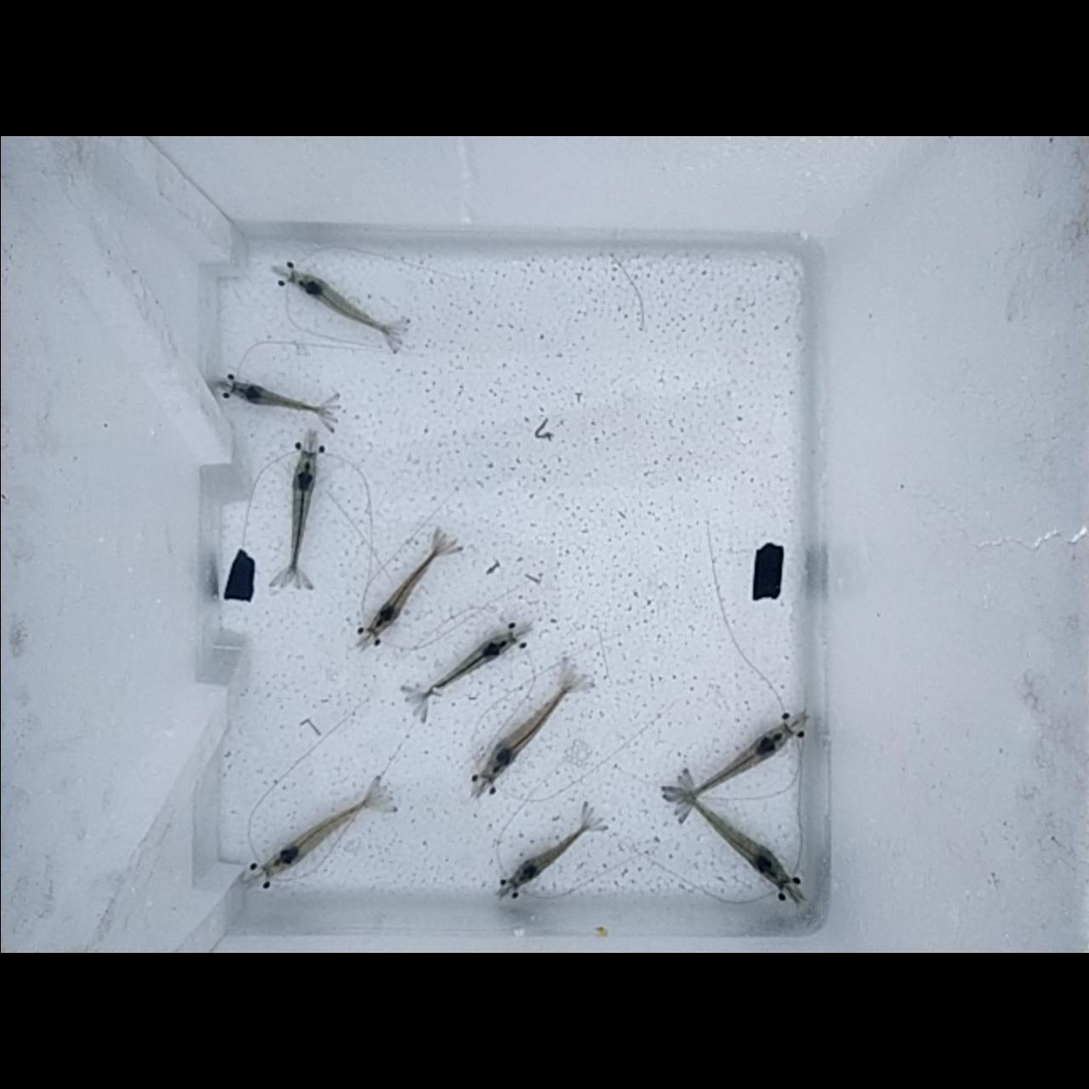box: (752, 546, 783, 599), (226, 555, 252, 601)
top_shrimp: (485, 681, 573, 783), (686, 798, 786, 885), (267, 798, 371, 873), (686, 728, 788, 803), (369, 546, 441, 633), (294, 276, 395, 337), (420, 633, 510, 699), (512, 825, 590, 888), (291, 456, 315, 575), (233, 383, 328, 413)
